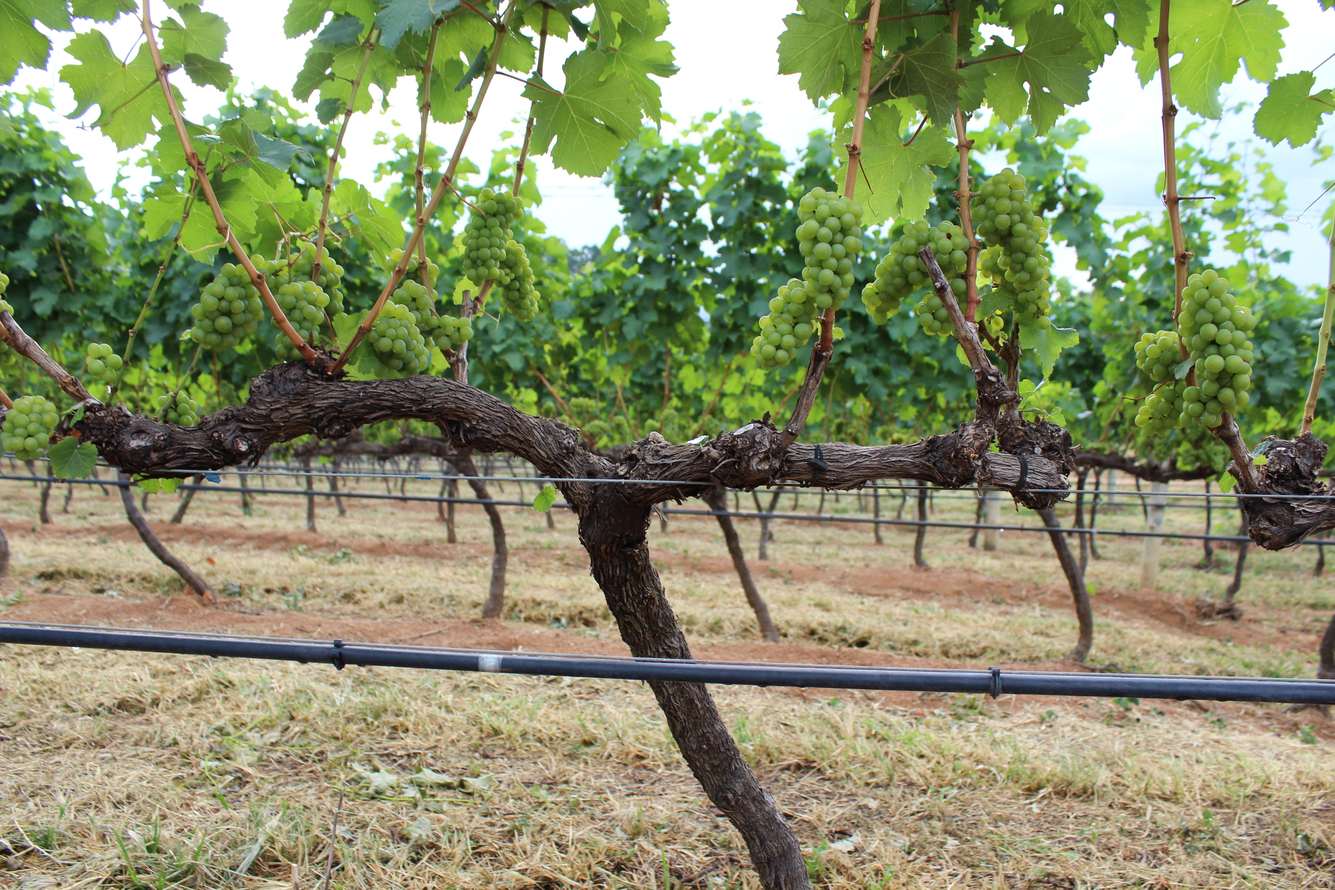leaf: (523, 49, 641, 176), (982, 13, 1092, 134), (60, 30, 169, 150), (858, 103, 954, 225), (872, 31, 963, 126), (778, 0, 863, 101), (1253, 71, 1335, 147), (0, 0, 72, 85), (159, 6, 229, 65), (1020, 322, 1079, 379), (47, 435, 98, 479), (71, 0, 135, 22), (533, 483, 557, 512), (840, 125, 851, 142), (989, 38, 999, 53), (177, 96, 180, 102), (873, 78, 875, 81), (1000, 45, 1004, 46), (173, 88, 174, 89)
